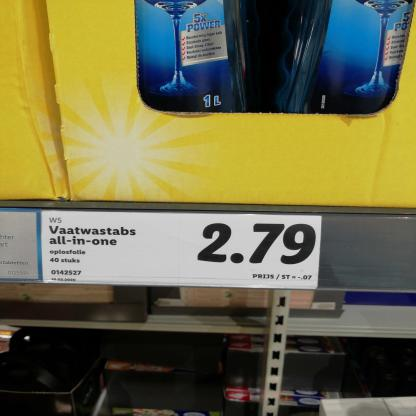prtg: (42, 212, 322, 290)
